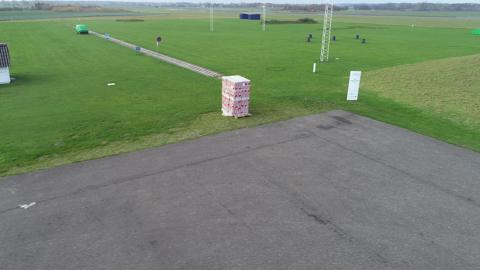RockwoolPallet: (221, 75, 251, 119)
